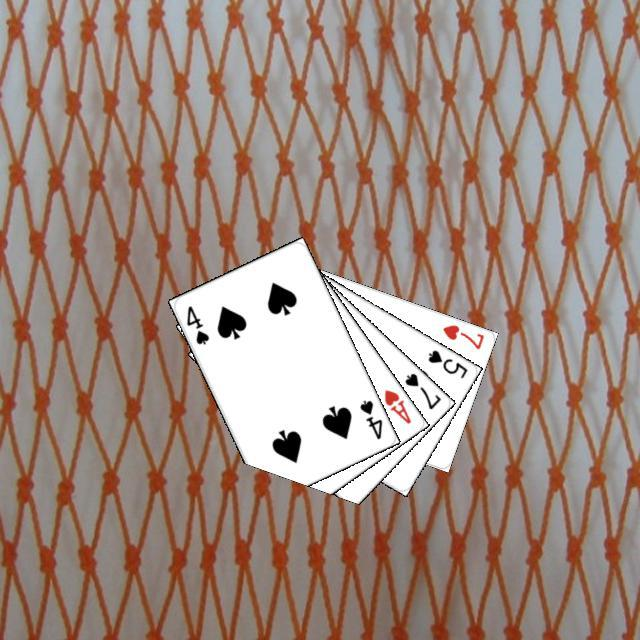4s: (181, 300, 211, 347), (355, 395, 384, 441)
5s: (423, 345, 469, 380)
7h: (438, 320, 486, 351)
7s: (400, 368, 442, 411)
Ah: (379, 384, 413, 425)
